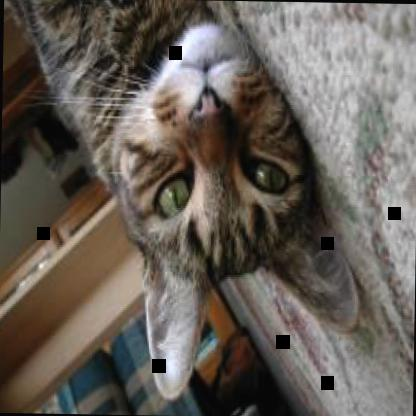cat: (0, 0, 369, 405)
